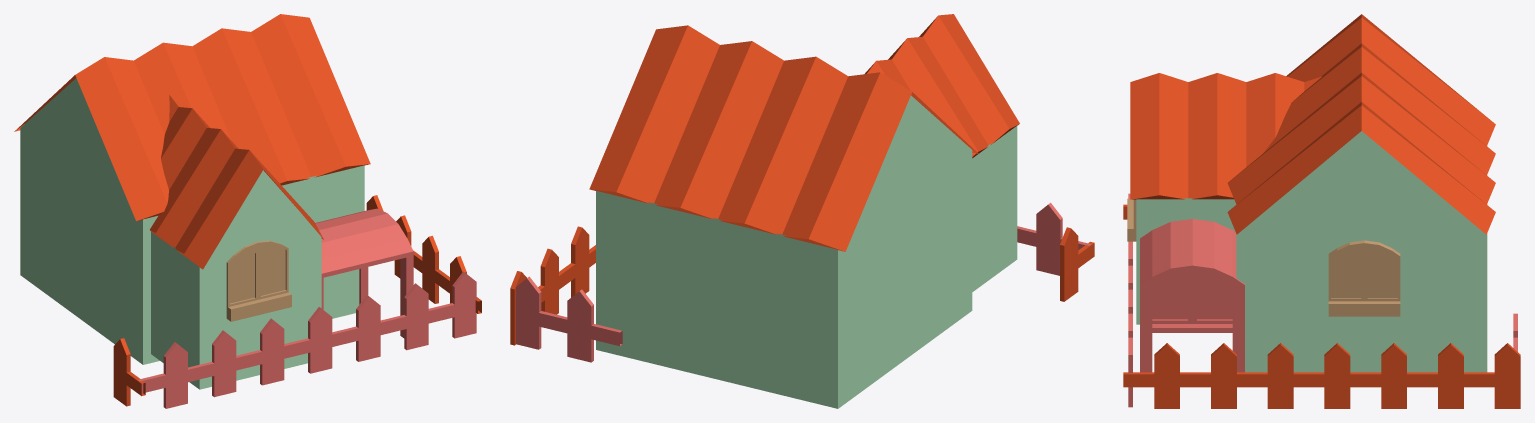
The model's file is House.fbx.
3 renders of one model, left to right at view 1: azimuth 30°, elevation 25°; view 2: azimuth 150°, elevation 25°; view 3: azimuth 270°, elevation 25°, orthographic. The views are drawn at different scales.
Visible parts, largest first — view 1: Cube.019; view 2: Cube.019; view 3: Cube.019.
Part boxes in pixels (x1,y1,x2,y2): Cube.019: [14, 14, 481, 408]; Cube.019: [510, 14, 1094, 408]; Cube.019: [1123, 14, 1520, 408].
Bounding box in the file's own units: 1308 × 946 × 1294.
